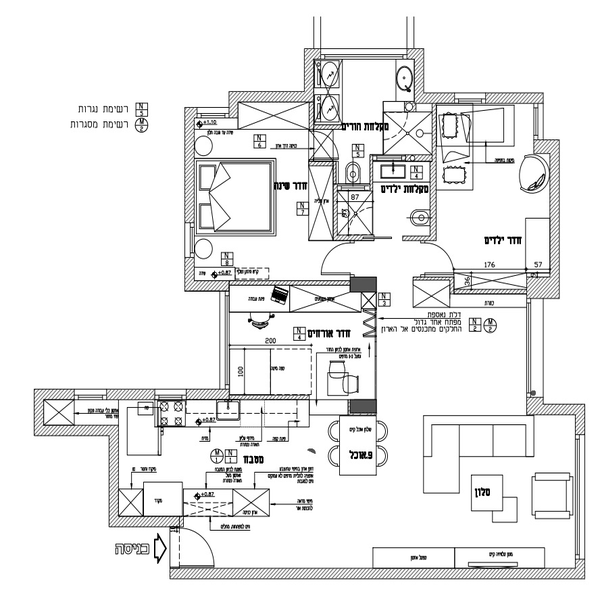door: (167, 521, 220, 569), (417, 241, 464, 278), (323, 241, 360, 281)
room: (95, 401, 590, 584), (44, 382, 223, 592), (429, 86, 565, 303), (184, 86, 331, 286), (301, 44, 445, 243), (215, 273, 384, 421)
wall: (167, 567, 587, 582), (535, 134, 562, 302), (521, 398, 587, 438), (193, 279, 357, 294), (182, 107, 198, 223), (231, 87, 315, 107), (429, 115, 441, 241), (106, 421, 120, 523), (98, 514, 179, 531), (407, 43, 428, 106), (327, 149, 341, 238), (38, 427, 121, 441), (105, 384, 157, 405), (300, 50, 318, 102), (487, 93, 543, 107), (31, 384, 77, 400), (190, 384, 232, 401), (417, 90, 454, 108), (33, 397, 47, 434), (186, 254, 197, 295), (228, 93, 243, 117)
window: (522, 296, 549, 400), (320, 43, 407, 64), (157, 386, 190, 407), (459, 89, 487, 110), (201, 100, 229, 121), (73, 387, 104, 403), (187, 222, 197, 253)
